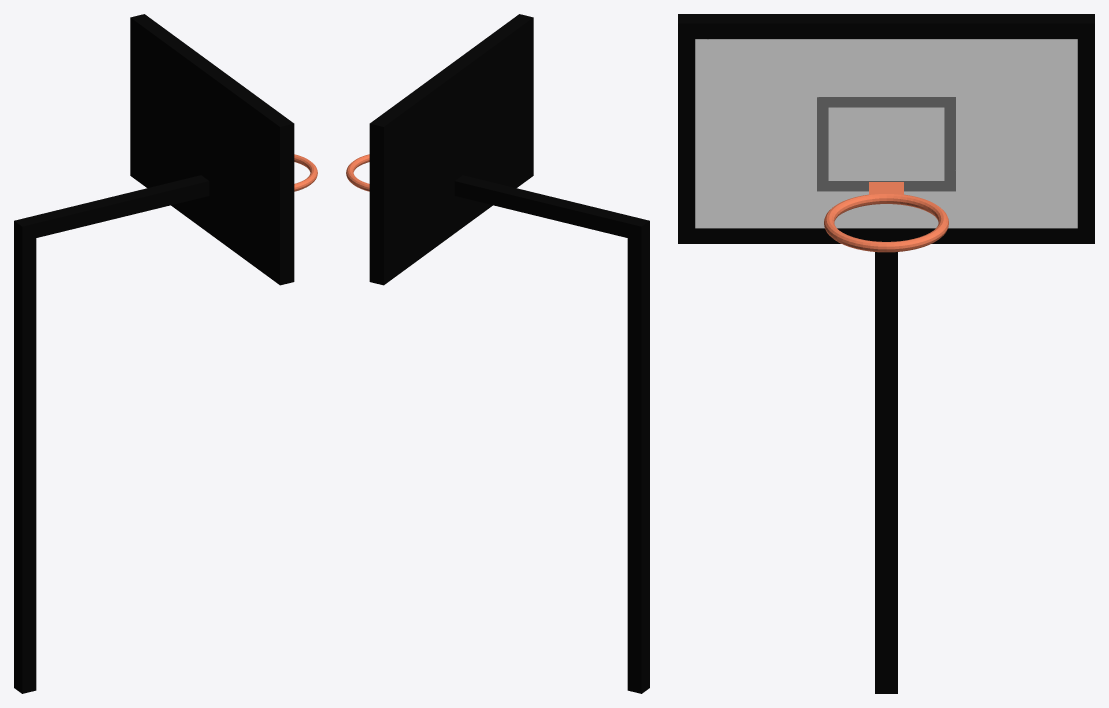
File: Hoop.glb
3 views of the same model, side by side, from view 1: azimuth 30°, elevation 25°; view 2: azimuth 150°, elevation 25°; view 3: azimuth 270°, elevation 25° (orthographic). The views are drawn at different scales.
Parts seen in each view (by area): view 1: Hoop Full; view 2: Hoop Full; view 3: Hoop Full.
Boxes of the visible parts, bbox=[...] form: Hoop Full: bbox=[14, 14, 317, 693]; Hoop Full: bbox=[346, 14, 649, 693]; Hoop Full: bbox=[678, 14, 1094, 693].
Bounding box in the file's own units: 2.07 × 3.86 × 1.83.
3 materials, 1 textured.
